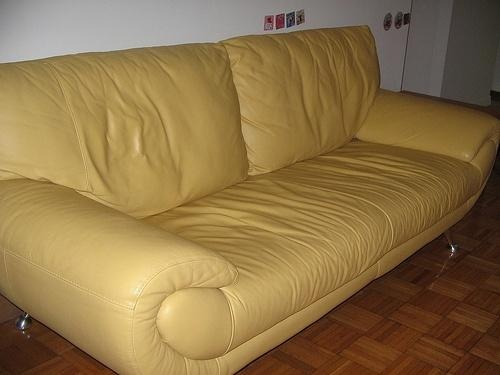sofa: (2, 25, 500, 375)
